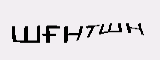М: (98, 23, 117, 45)
О: (54, 17, 72, 42)
Т: (84, 23, 98, 42)
Ч: (35, 17, 56, 43)
Я: (71, 19, 87, 44)
